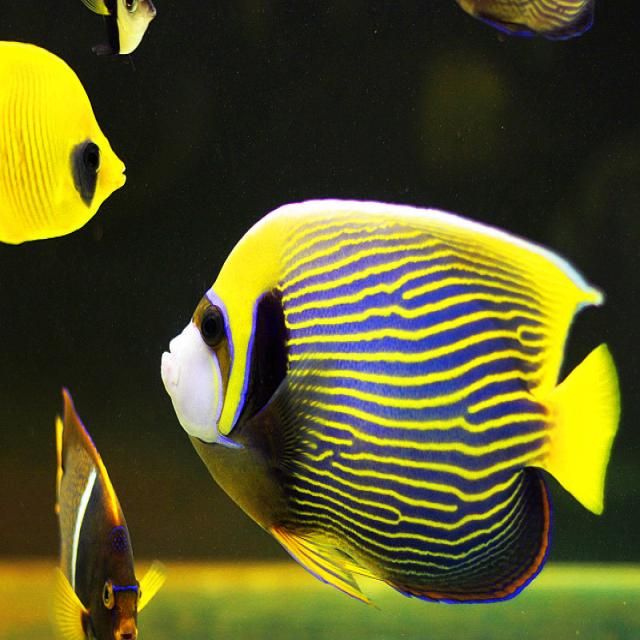AngelFish: (164, 194, 618, 606)
